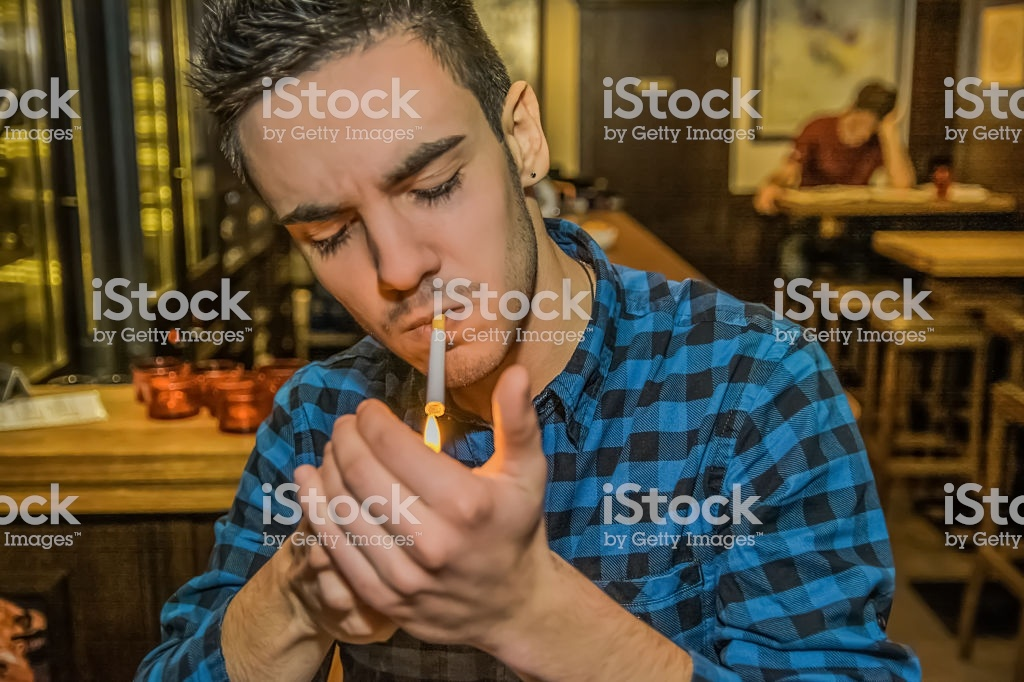sigaretta: (417, 303, 456, 426)
